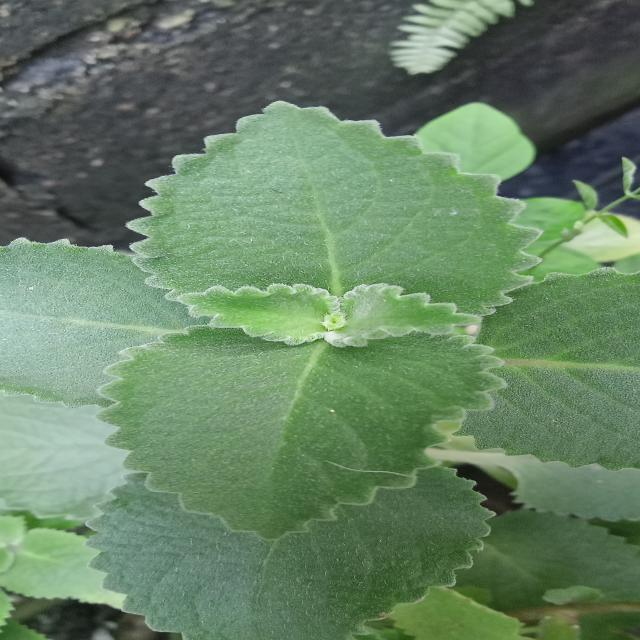Oregano: (70, 84, 544, 534)
